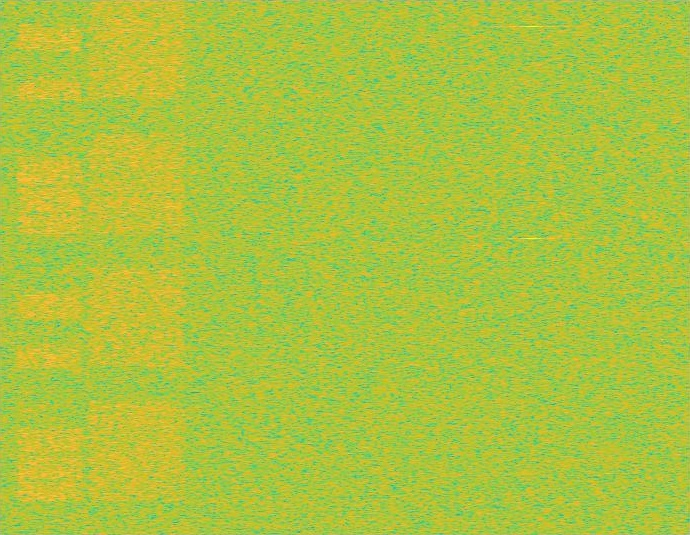5G: (85, 0, 189, 534)
LTE: (15, 0, 84, 534)
Radar: (525, 0, 539, 534)
